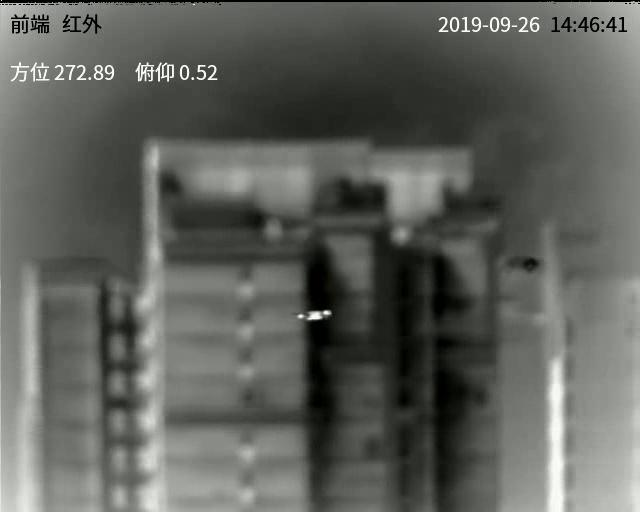DRONE: (295, 308, 333, 321)
